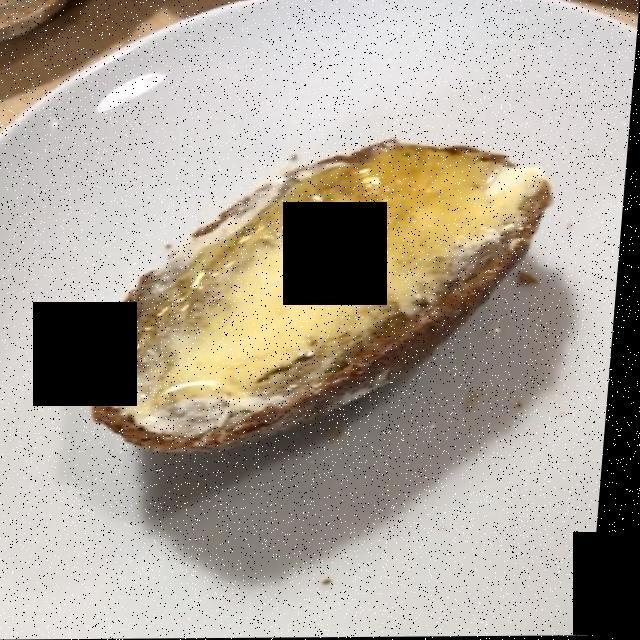bread: (99, 145, 551, 452)
butter: (123, 178, 528, 427)
honey: (141, 154, 519, 434)
